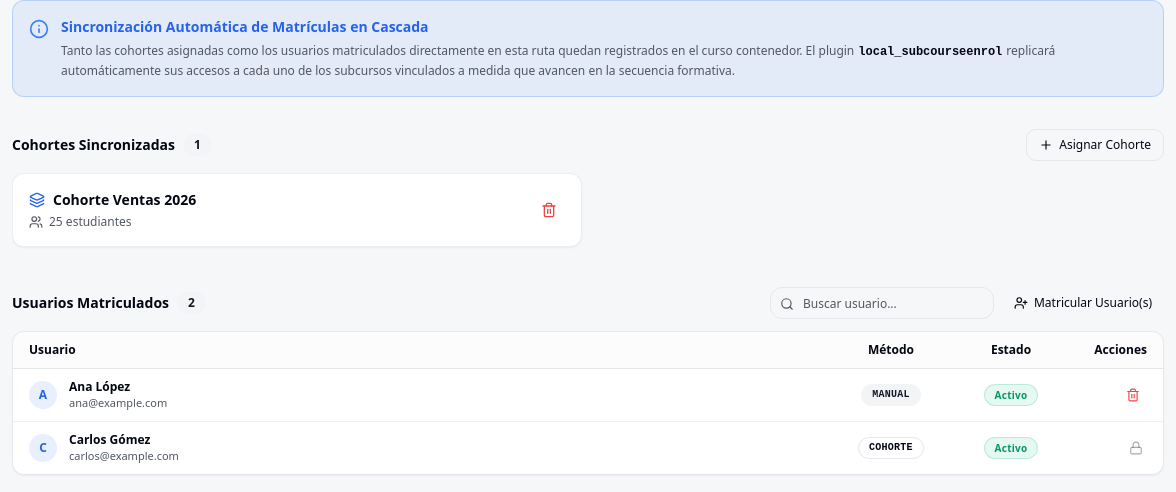
Test case: Learning Paths - Frontend Components › LearningPathEnrolTab - Gestión de Cohortes y Usuarios › permite filtrar usuarios matriculados por texto de búsqueda
The image size is (1176, 492).
Type "Ana" into the field with placeholder "Buscar usuario..." at (882, 303), box [770,287,994,319]
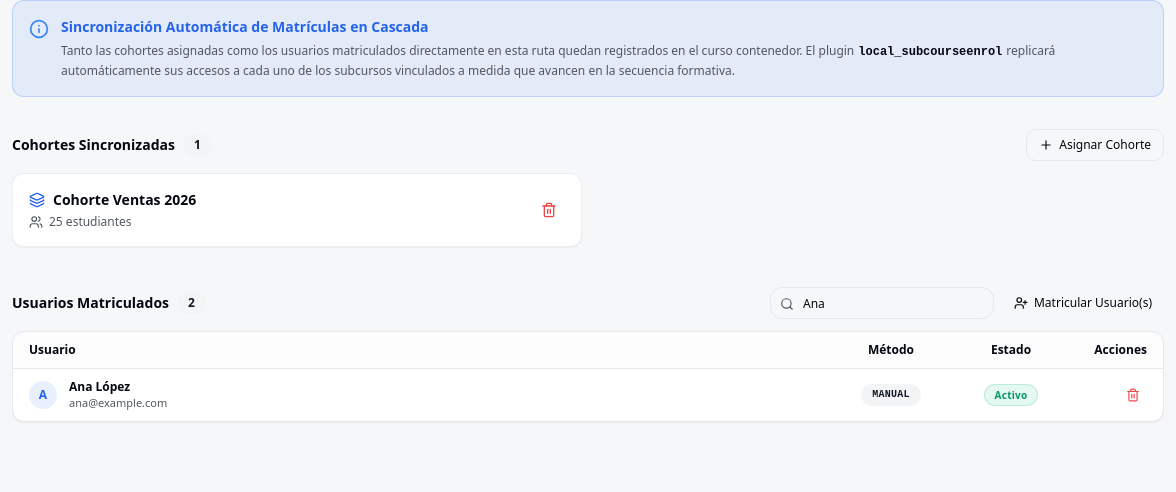
Expected: the text "Ana López" is shown, [69,378,130,395]
Now the text "Carlos Gómez" is gone
